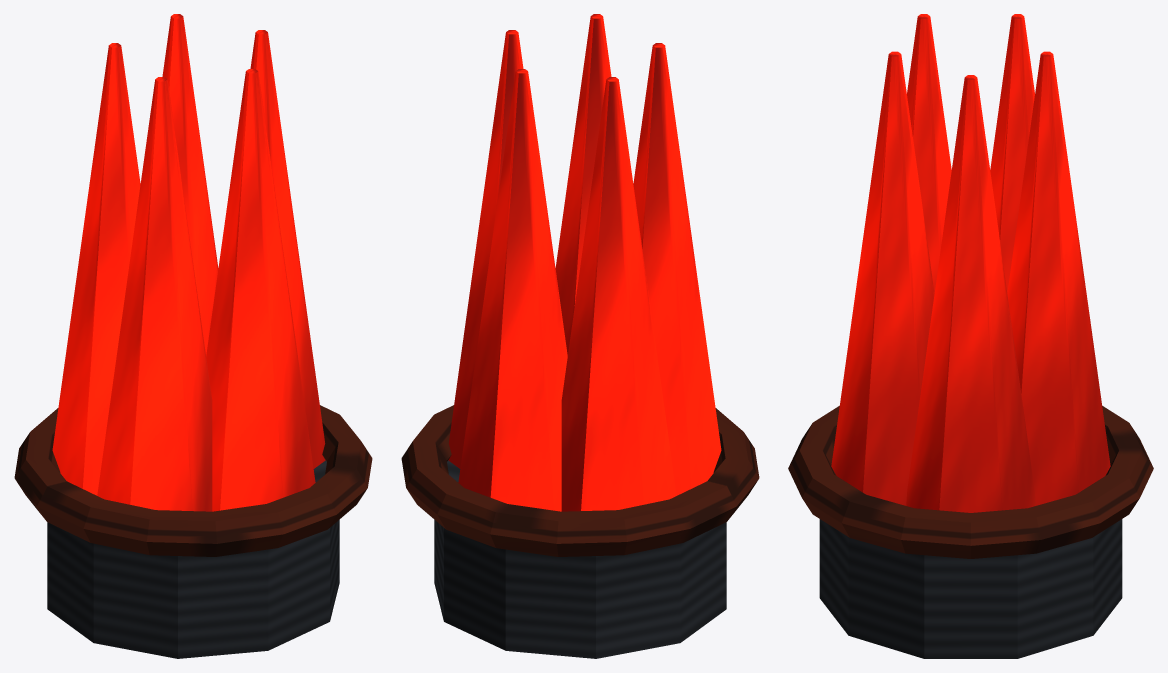
Rendered from SM_FC_FlameJet.fbx.
3 views of the same model, side by side, from view 1: azimuth 30°, elevation 25°; view 2: azimuth 150°, elevation 25°; view 3: azimuth 270°, elevation 25° (orthographic).
Visible parts, largest first — view 1: SM_FC_FlameJet; view 2: SM_FC_FlameJet; view 3: SM_FC_FlameJet.
Boxes of the visible parts, x1,y1,x2,y2 form: SM_FC_FlameJet: (14, 14, 372, 658); SM_FC_FlameJet: (401, 14, 759, 658); SM_FC_FlameJet: (788, 14, 1153, 658).
Size of what is drawn, in the model's own units: 0.87 by 1.46 by 0.87.
